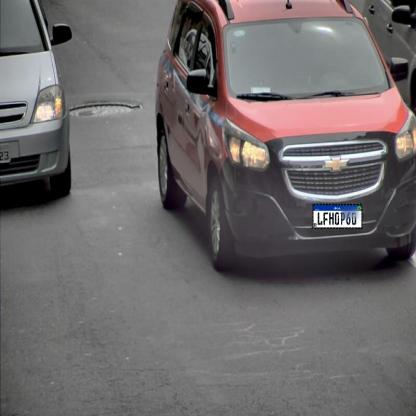PlacaM: (312, 204, 362, 229)
